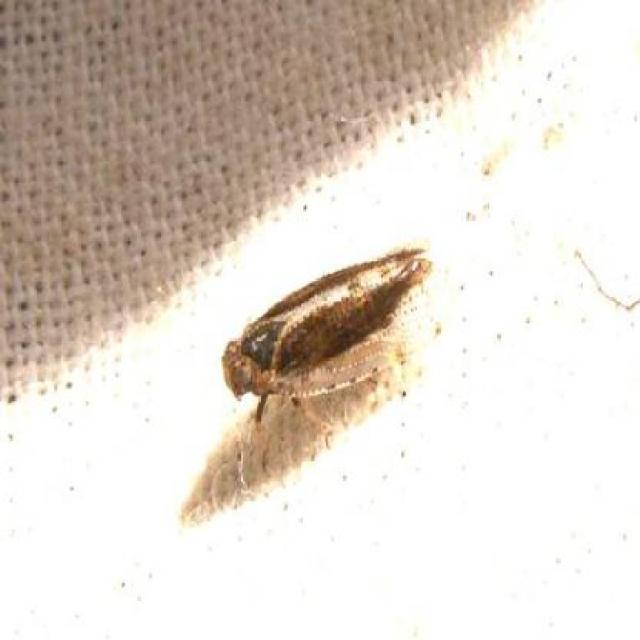brown-planthopper: (218, 239, 436, 416)
